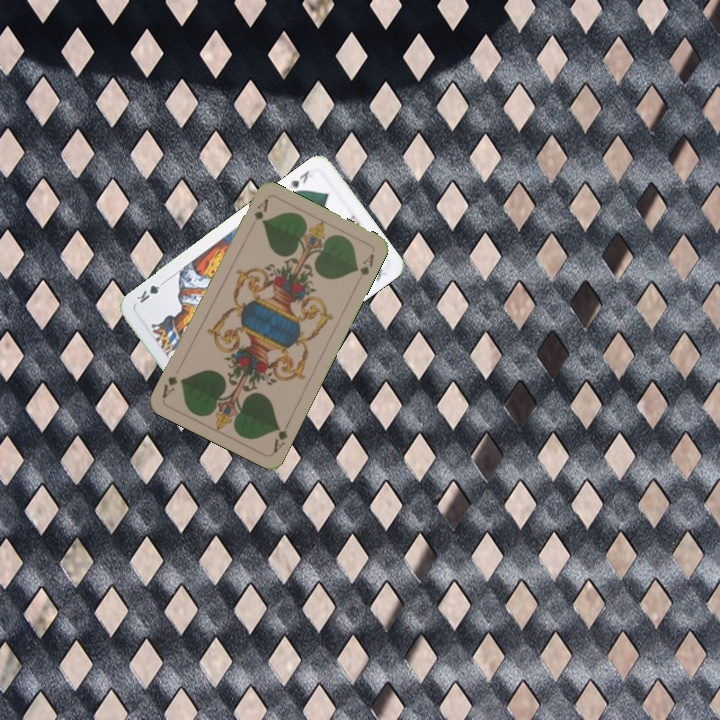GA: (269, 417, 293, 456), (246, 195, 271, 232)
GK: (284, 166, 312, 191)
